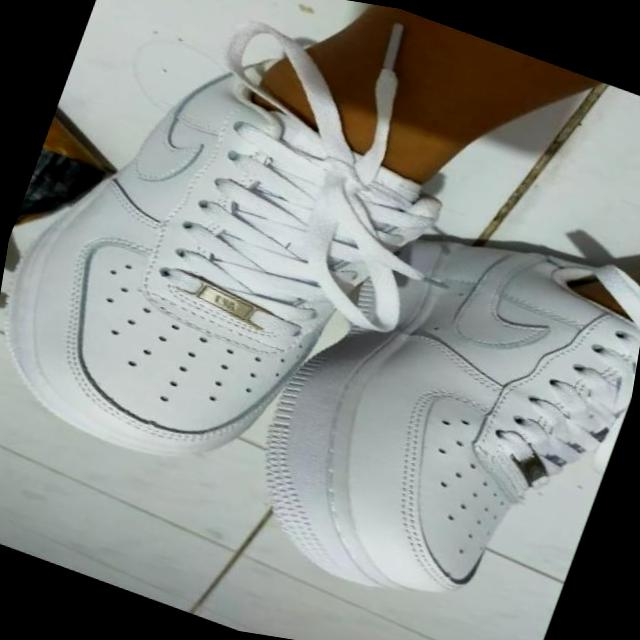nike_fake_airforce: (0, 0, 487, 539), (214, 166, 640, 640)
